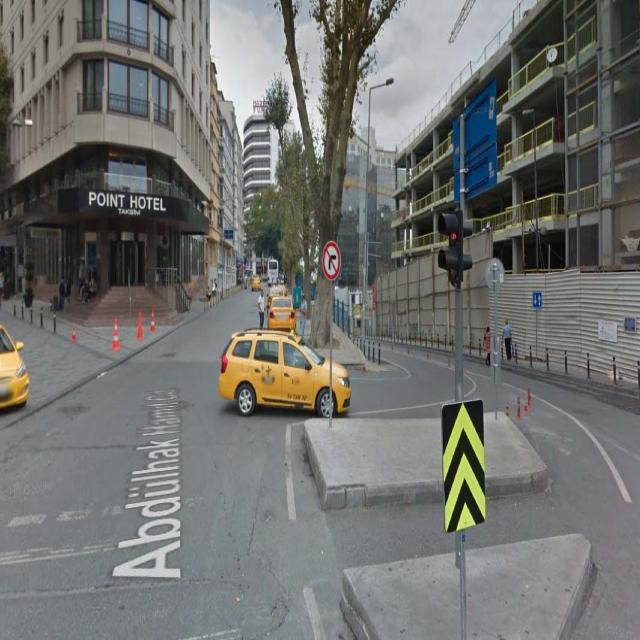sagadonulmez: (323, 240, 341, 280)
